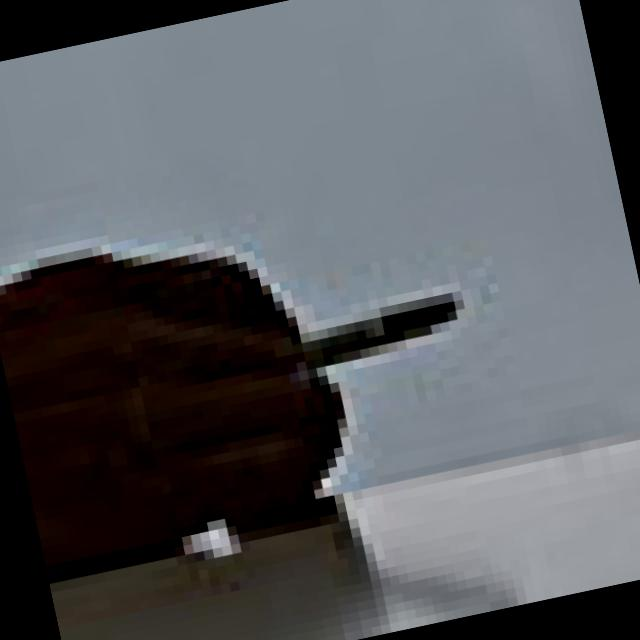smoke: (238, 268, 486, 422)
